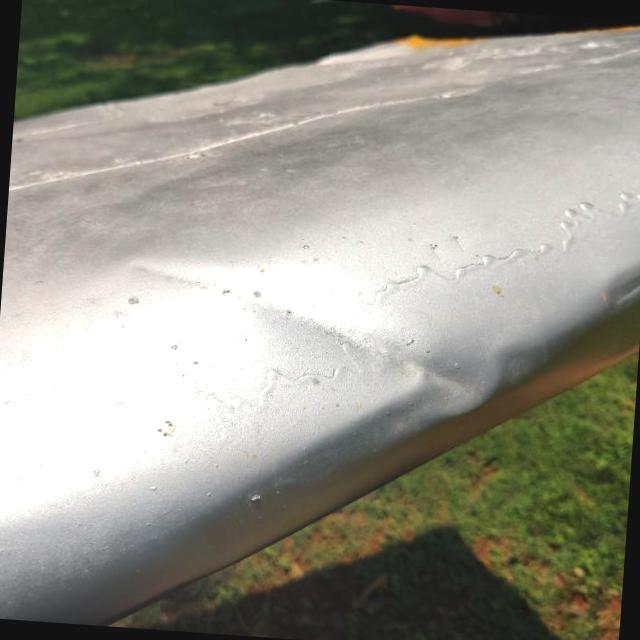dent: (156, 258, 542, 470), (597, 258, 640, 315)
